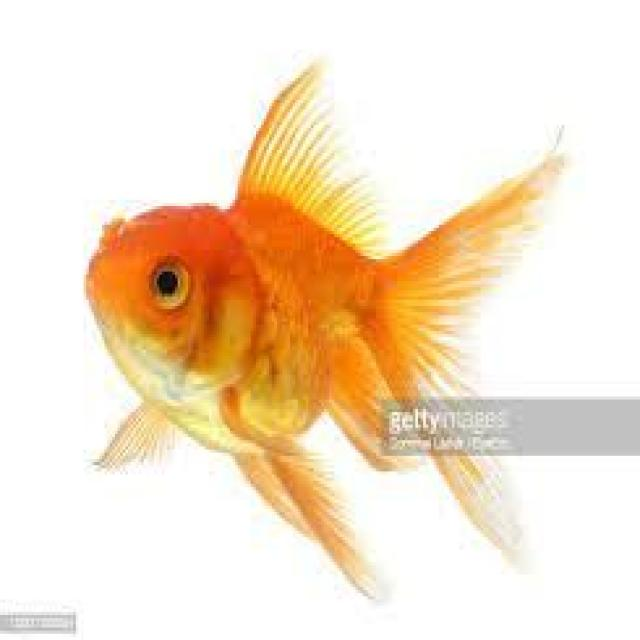Gold-Fish: (41, 52, 531, 564)
